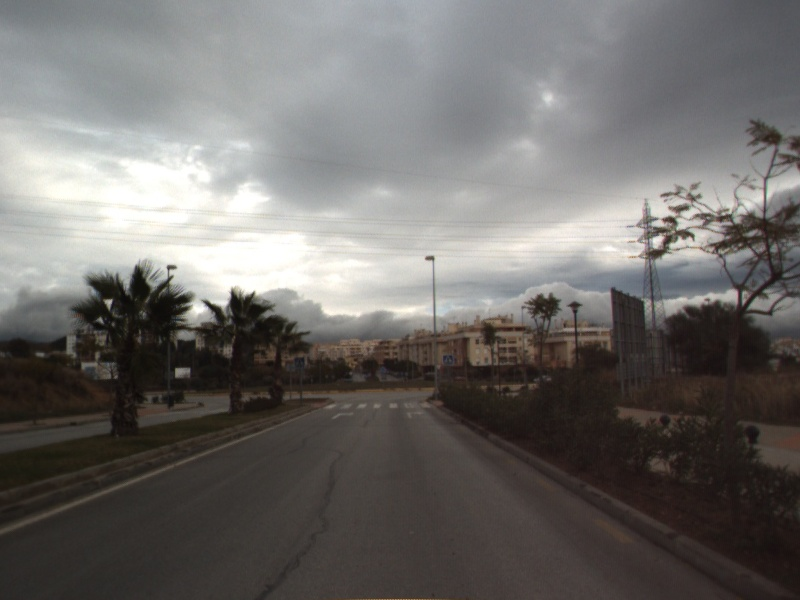RIGHT: (329, 409, 356, 421), (405, 409, 427, 420)
